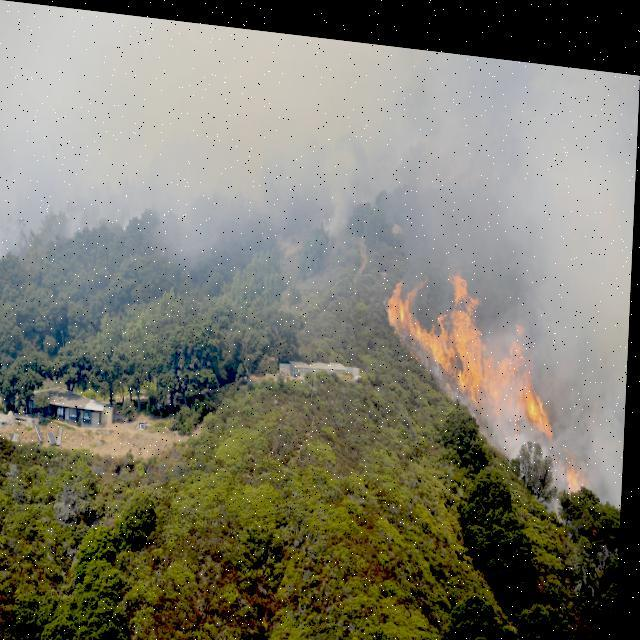Fire: (376, 245, 601, 480)
